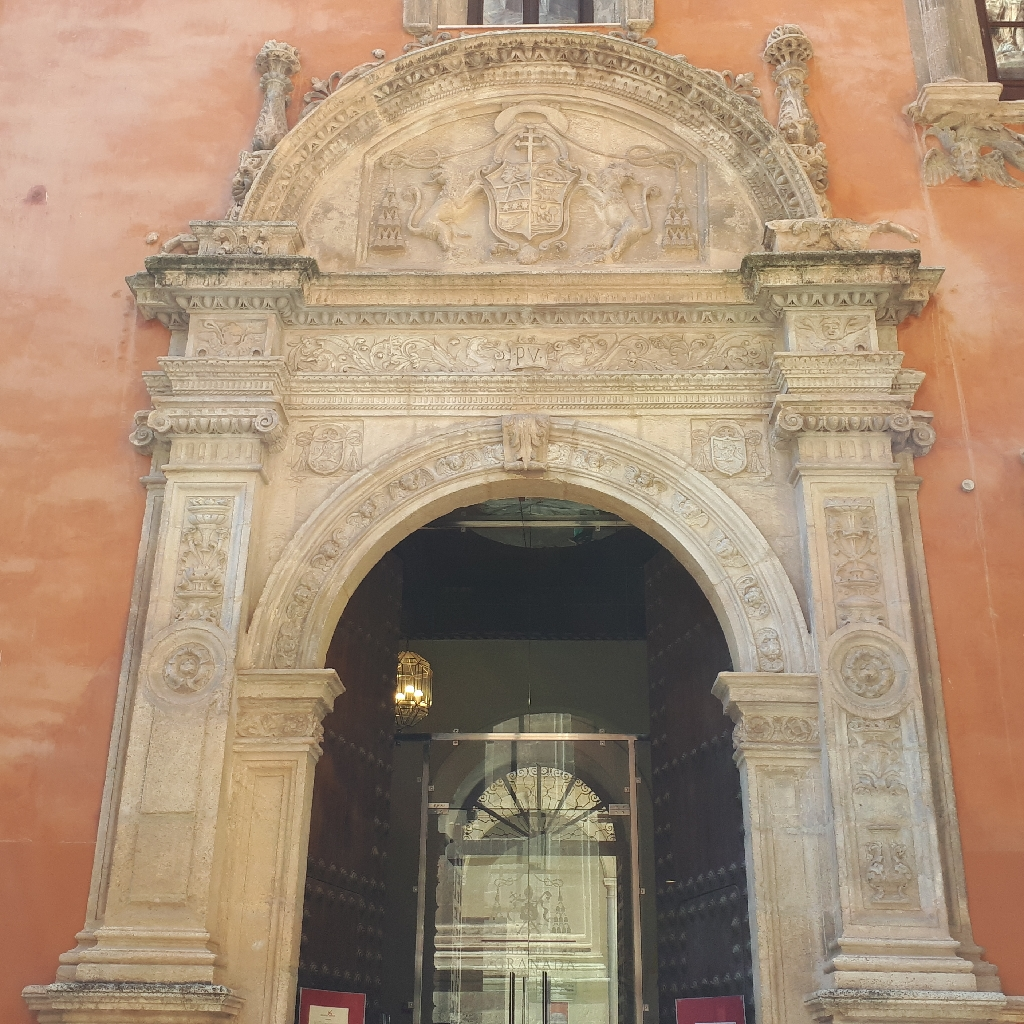arco-medio-punto: (286, 449, 765, 749)
